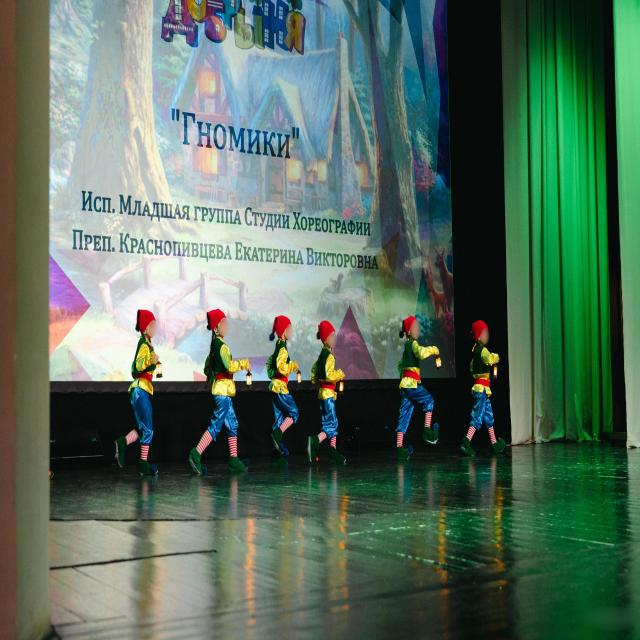Person: (189, 297, 249, 491), (113, 292, 171, 488), (389, 310, 443, 467), (262, 305, 306, 475), (460, 314, 506, 458), (307, 316, 346, 477)
